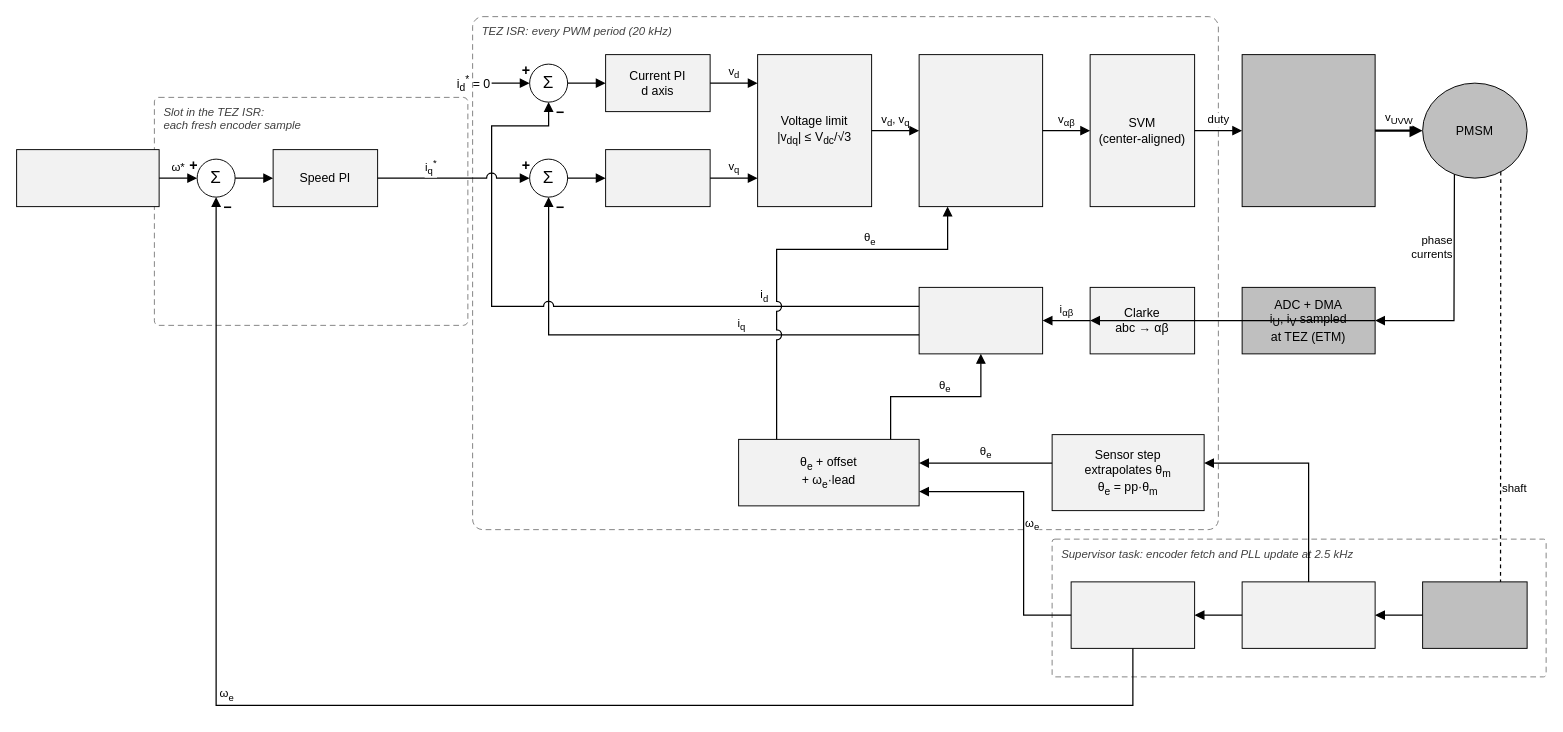
The diagram is 1563 pixels wide and 732 high, and some of its shapes have lost their labels. Each missing label, with the centre of its shape:
AS5600 encoder: point (1474, 614)
Current PI q axis: point (657, 178)
Inverse Park dq → αβ: point (980, 130)
I²C fetch θ m sample: point (1308, 614)
MCPWM + inverter 6 PWM, dead time: point (1308, 130)
Park αβ → dq: point (980, 320)
PLL ω e: point (1132, 614)
Speed ramp (app) ω* with slew limit: point (87, 178)
